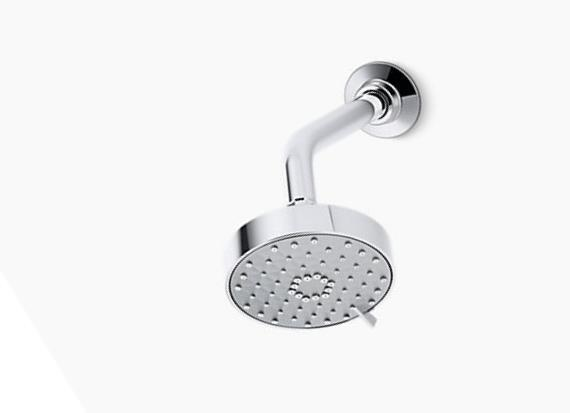Ducha: (222, 32, 438, 355)
